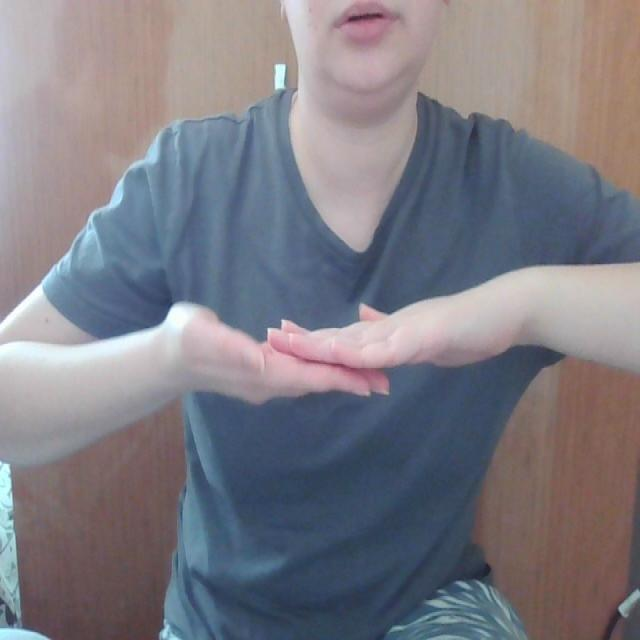Arkadas: (8, 284, 640, 413)
